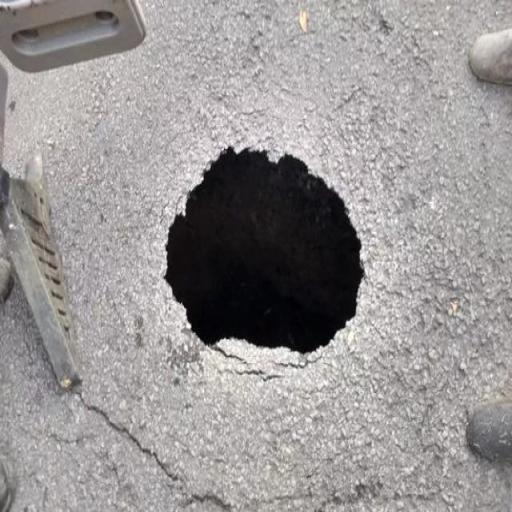Concentric_Crack: (165, 147, 364, 352)
